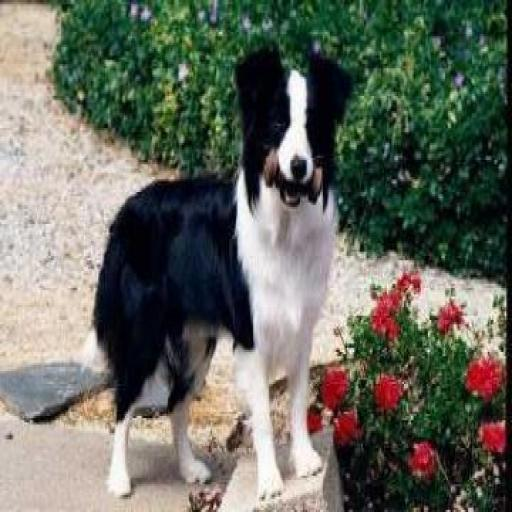dog_face: (233, 49, 357, 205)
